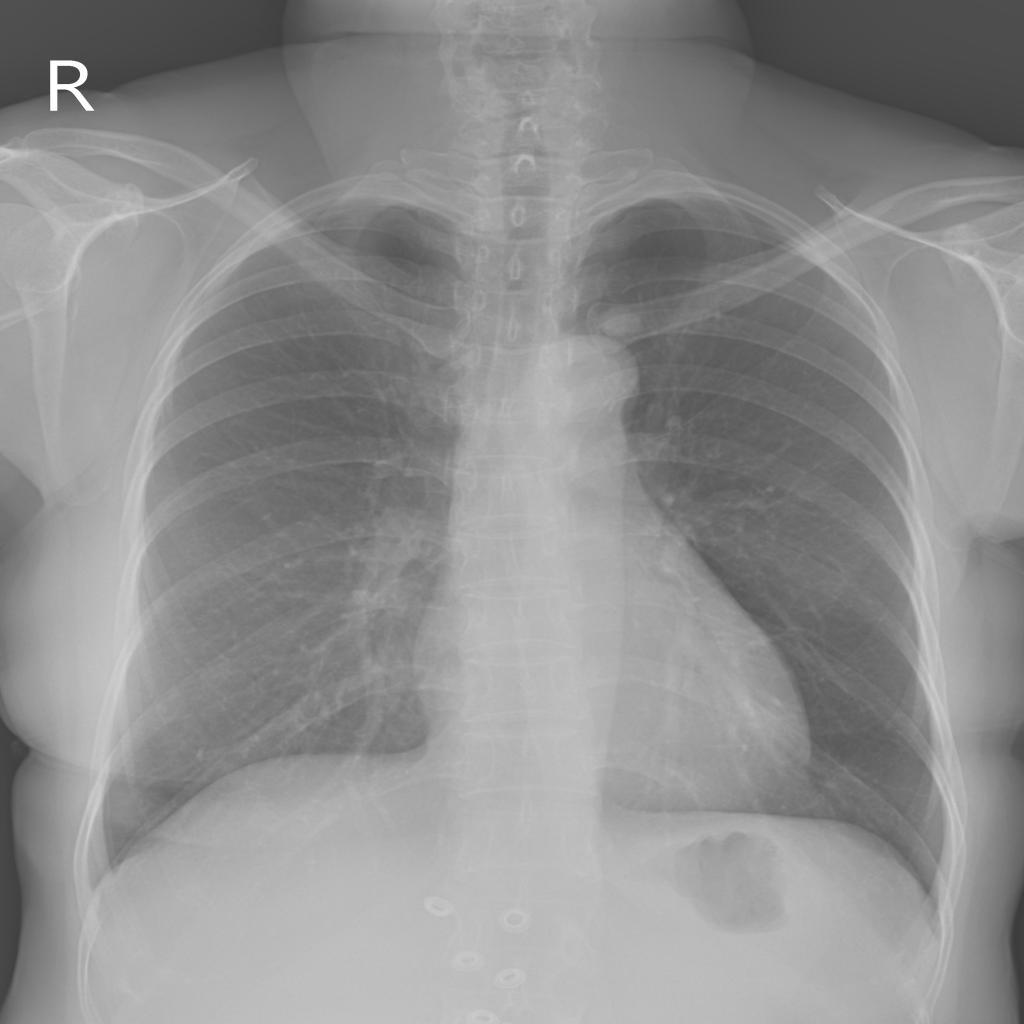Nodule: (592, 306, 647, 339)
